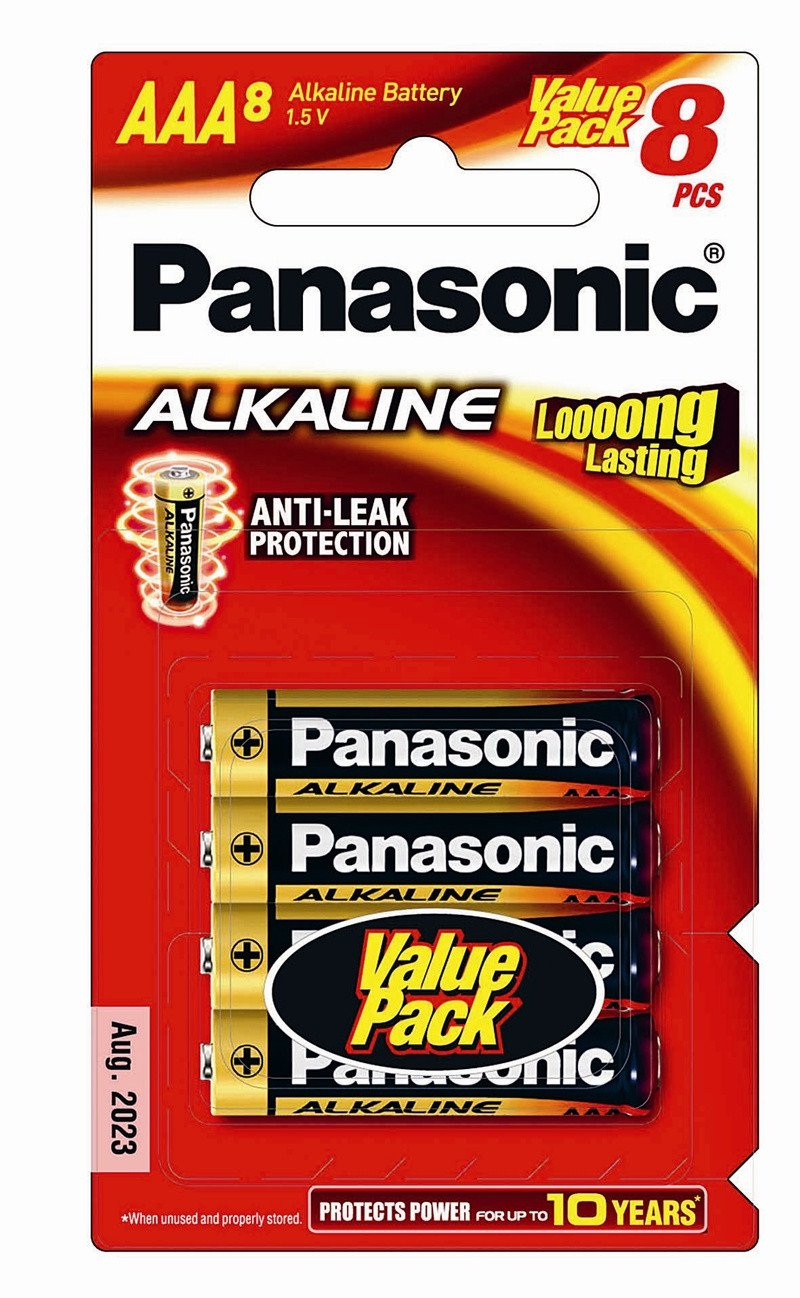Battery: (196, 1006, 666, 1129), (199, 684, 670, 799), (191, 800, 677, 906), (199, 903, 666, 1010)
